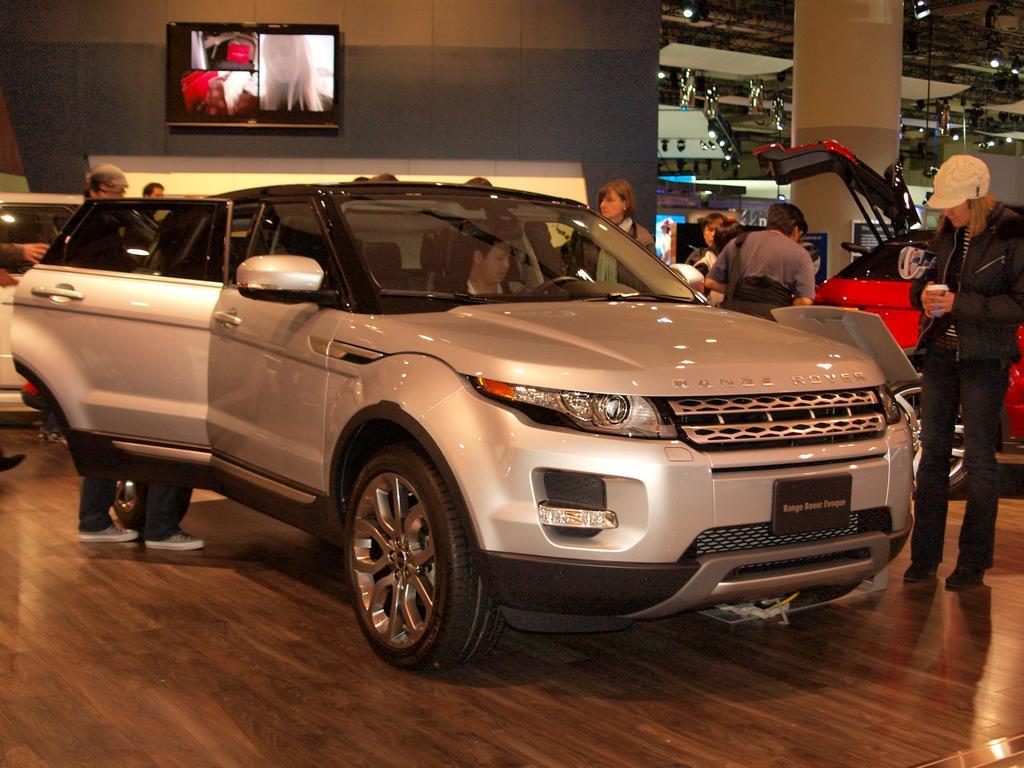Person: (0, 153, 1024, 588)
